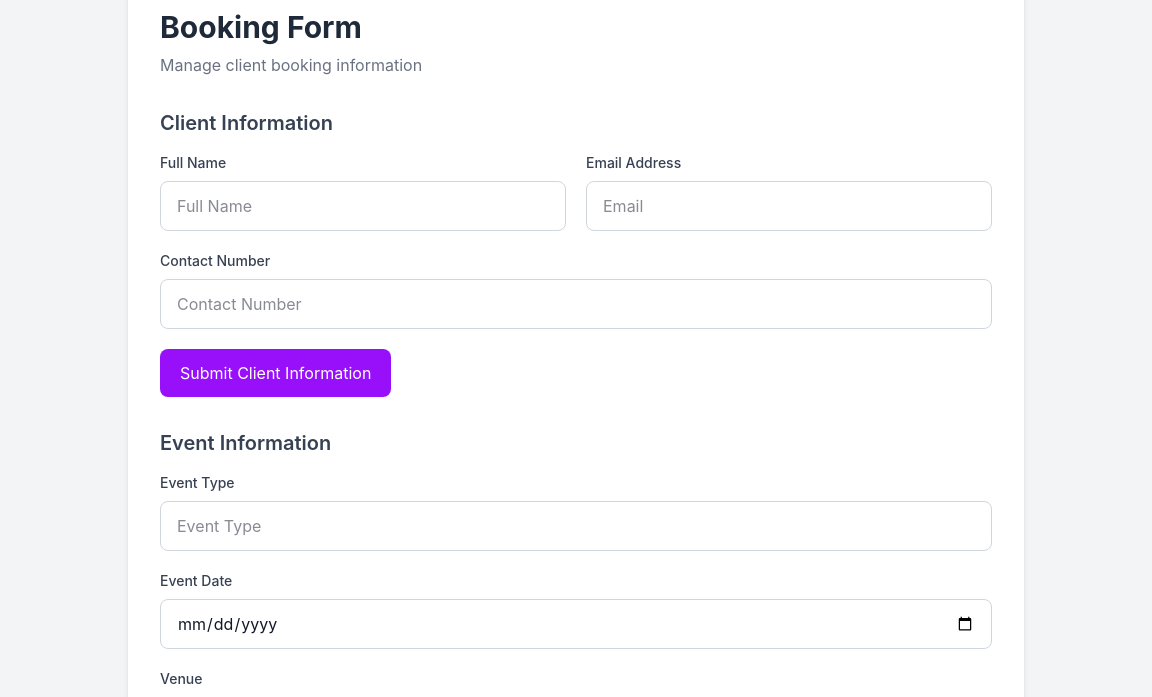
Test case: BookingForm Component › shows success message when all fields are complete
Type "Juan Dela Cruz" into the field with placeholder "Full Name" at (363, 206), box [160, 181, 566, 231]
Type "juan@gmail.com" into the field with placeholder "Email" at (789, 206), box [586, 181, 992, 231]
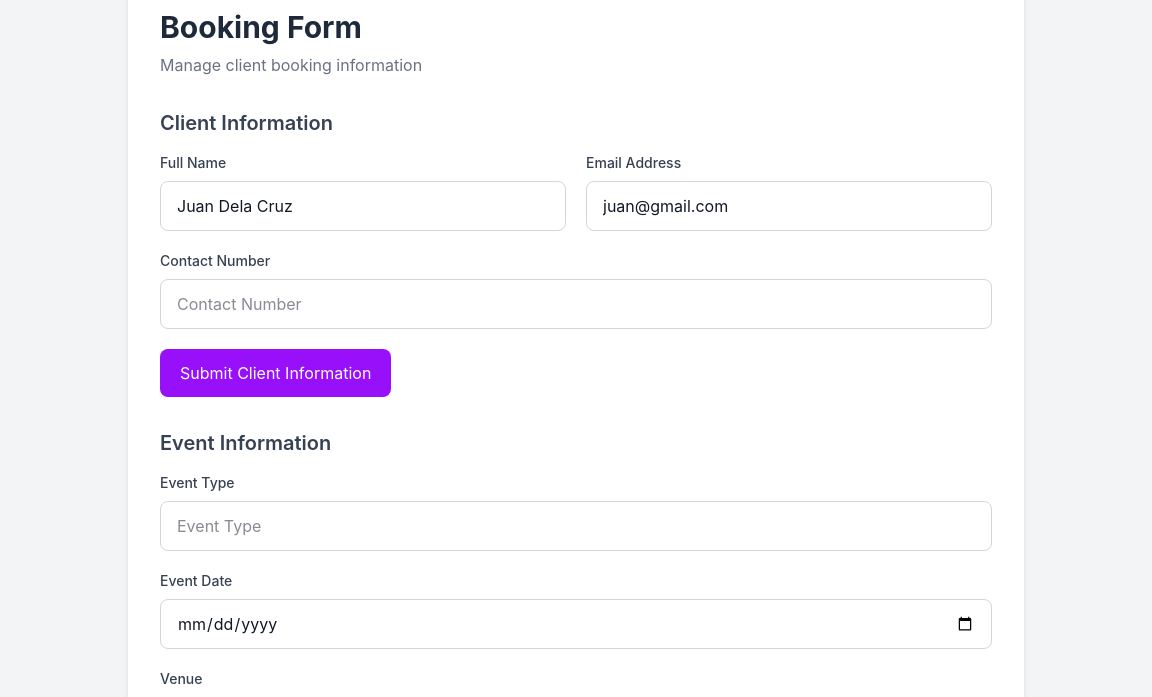
Type "09123456789" into the field with placeholder "Contact Number" at (576, 304), box [160, 279, 992, 329]
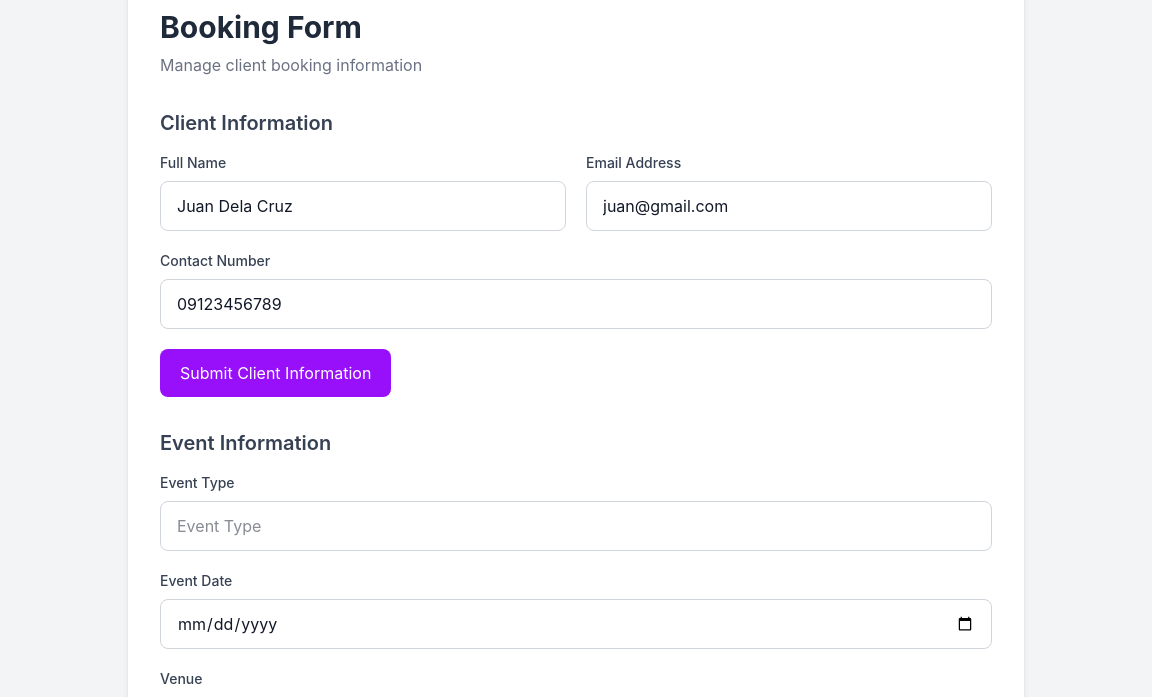
Type "Wedding" into the field with placeholder "Event Type" at (576, 526), box [160, 501, 992, 551]
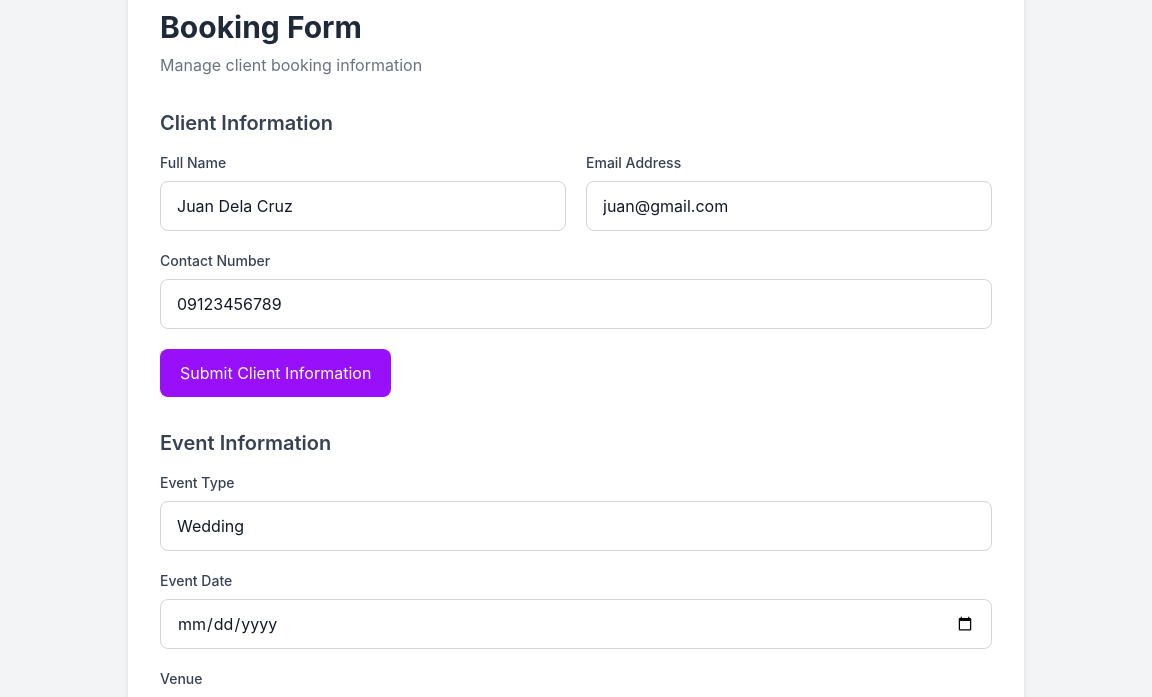
Type "2026-08-01" into the date field at (576, 624), box [160, 599, 992, 649]
(page scrolled)
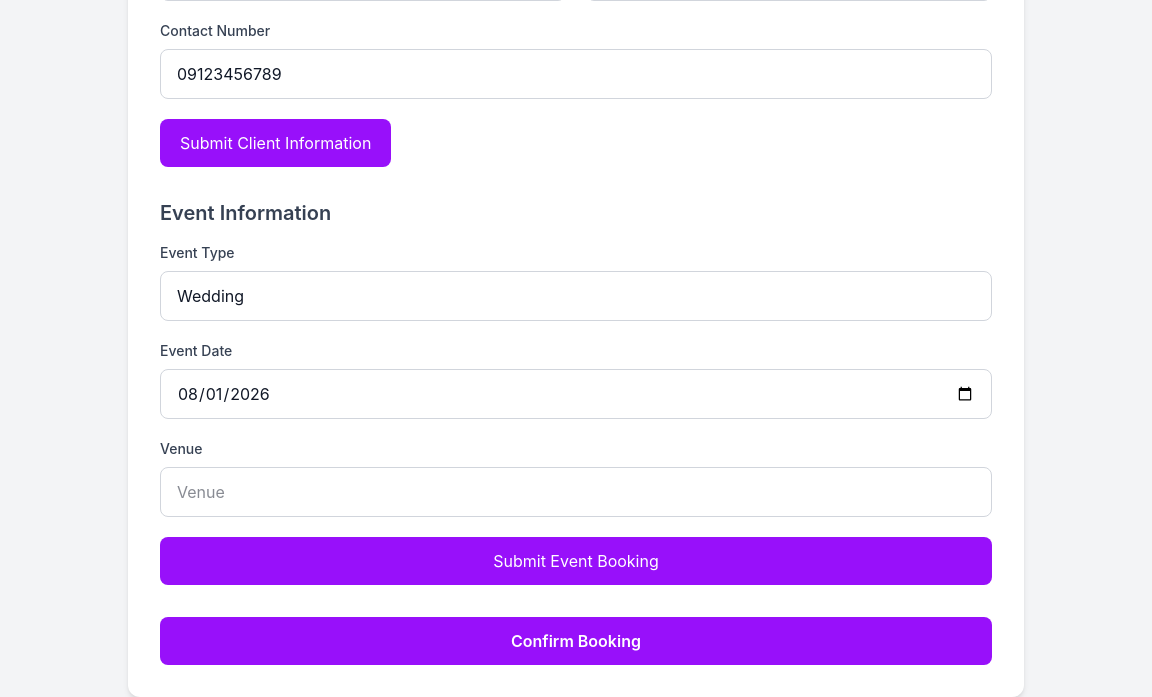
Type "Quezon City" into the field with placeholder "Venue" at (576, 492), box [160, 467, 992, 517]
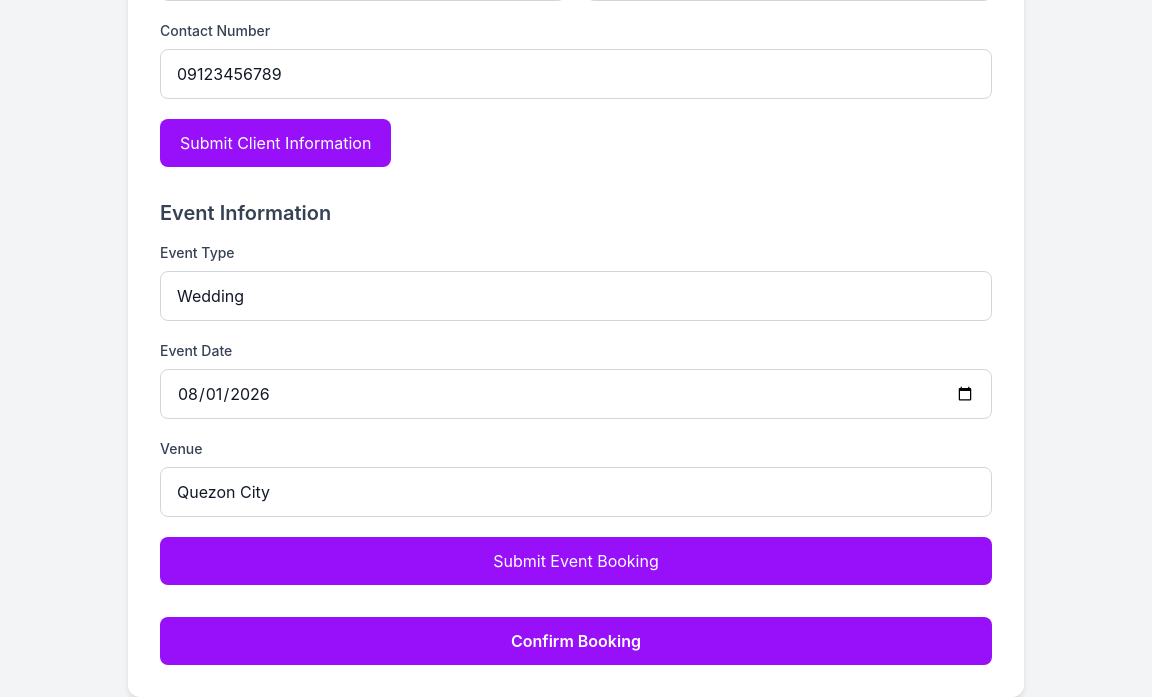
Click the button "Confirm Booking" at (576, 641), box [160, 617, 992, 665]
(page scrolled)
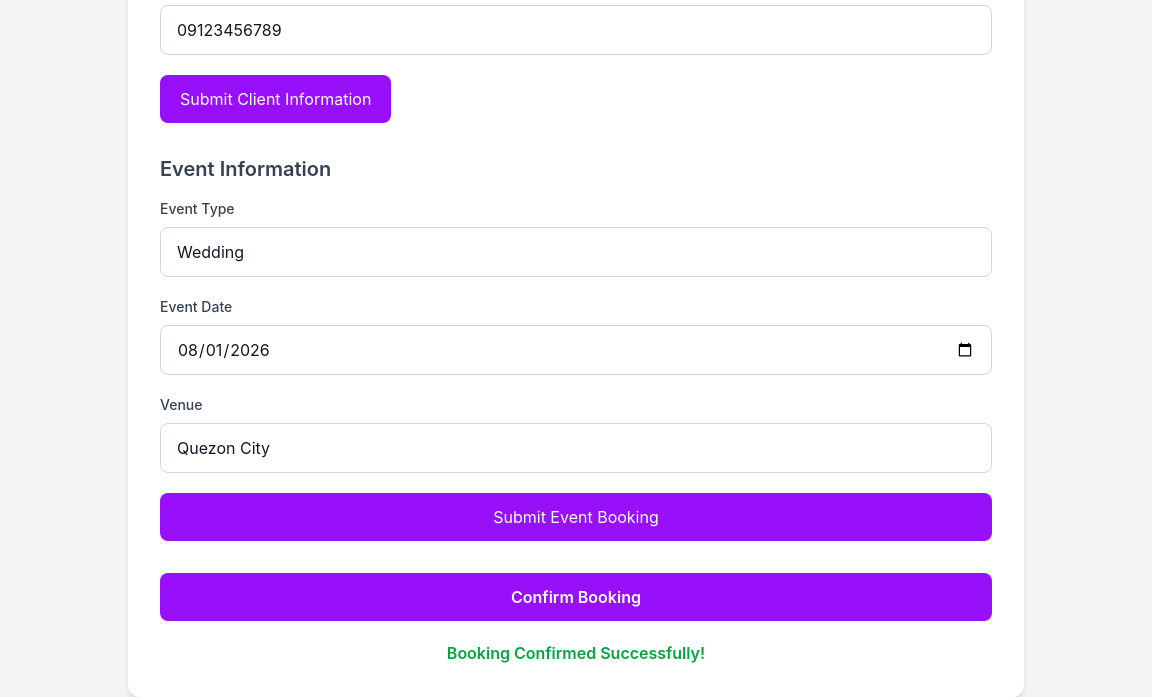
Expected: the text "Booking Confirmed Successfully!" is shown, [447, 643, 705, 663]
